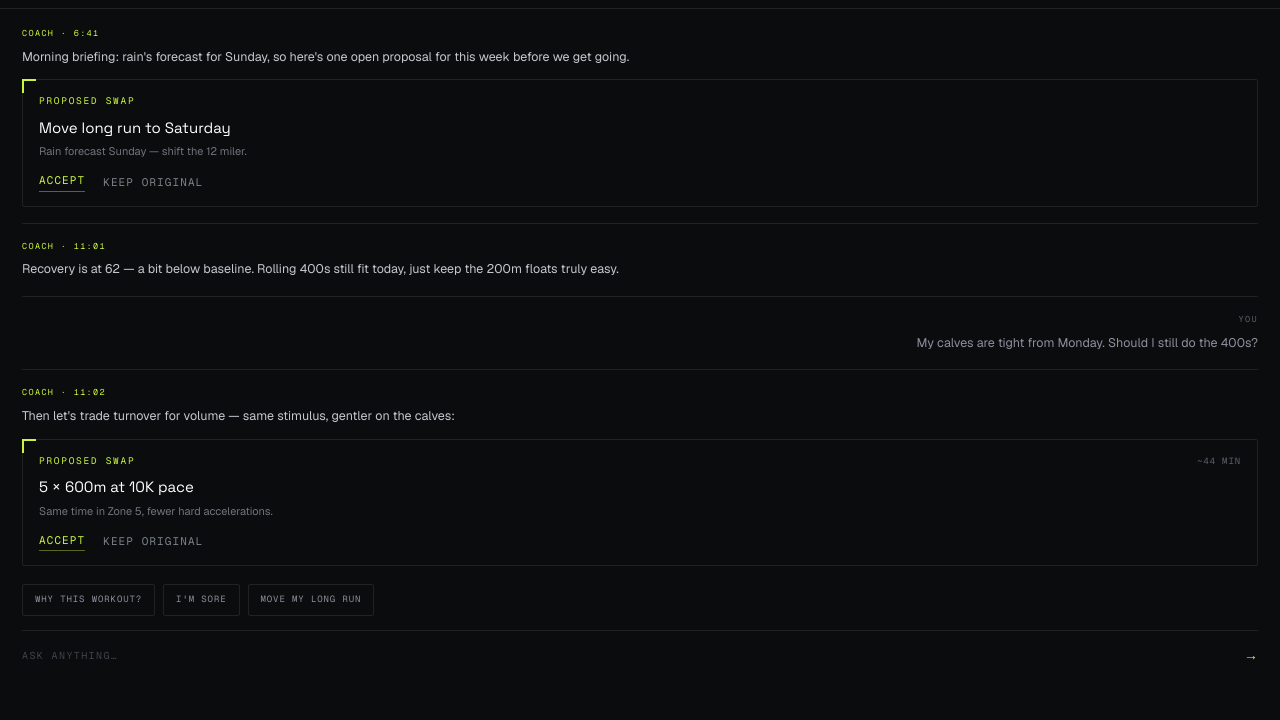
I4: a rejected send shows COULDN'T SAVE — TRY AGAIN with no unhandled rejection; retry success clears it
This screenshot has width=1280, height=720.
(page scrolled)
Type "did this save?" into the field with placeholder "ASK ANYTHING…".
click(627, 655); type("did this save?")  # box [22, 648, 1232, 663]
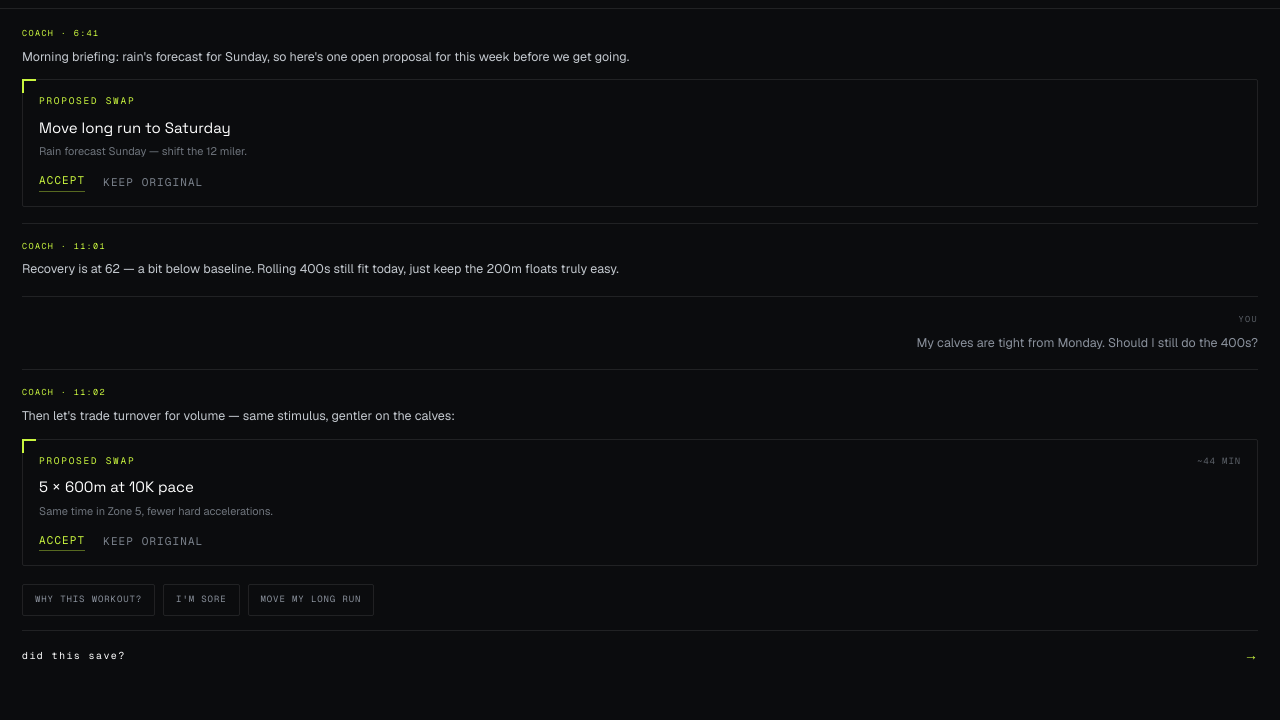
Click the button named "Send".
click(1251, 655)  # box [1244, 645, 1258, 666]
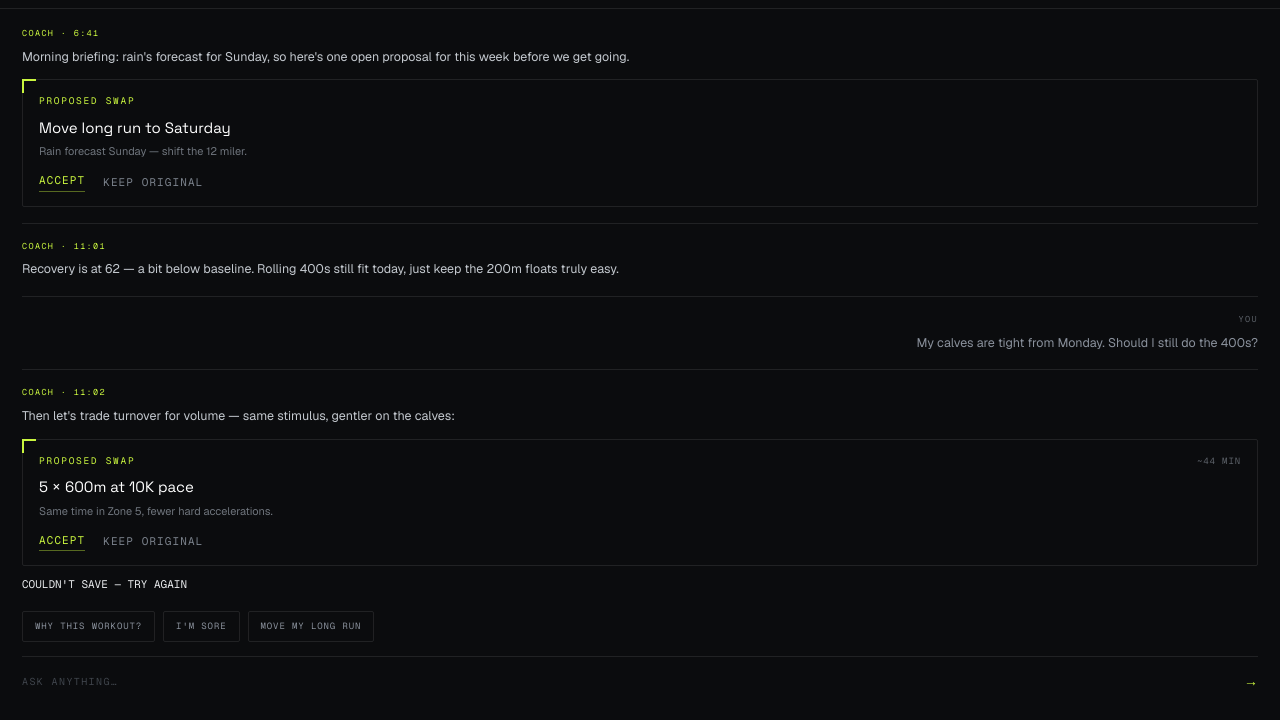
Expected: the text "COULDN'T SAVE — TRY AGAIN" is shown, [22, 577, 187, 591]
Type "did this save?" into the field with placeholder "ASK ANYTHING…".
click(627, 682); type("did this save?")  # box [22, 674, 1232, 689]
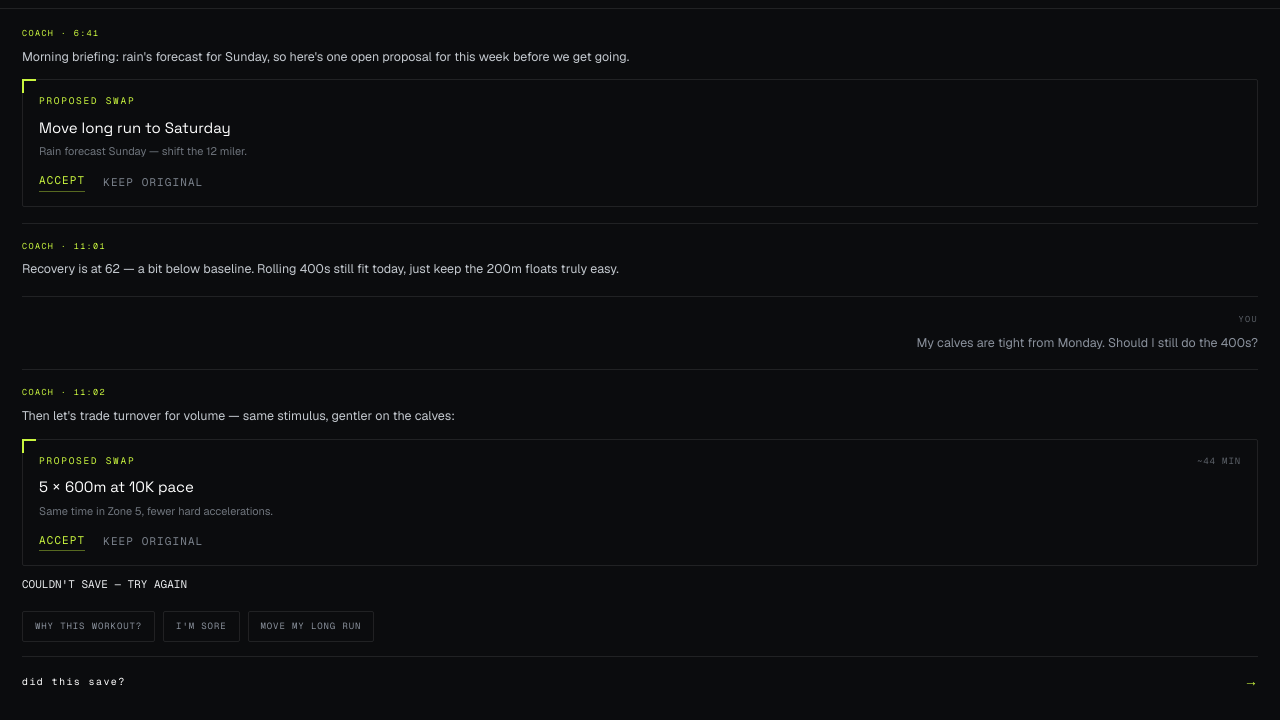
Click the button named "Send".
click(1251, 682)  # box [1244, 671, 1258, 692]
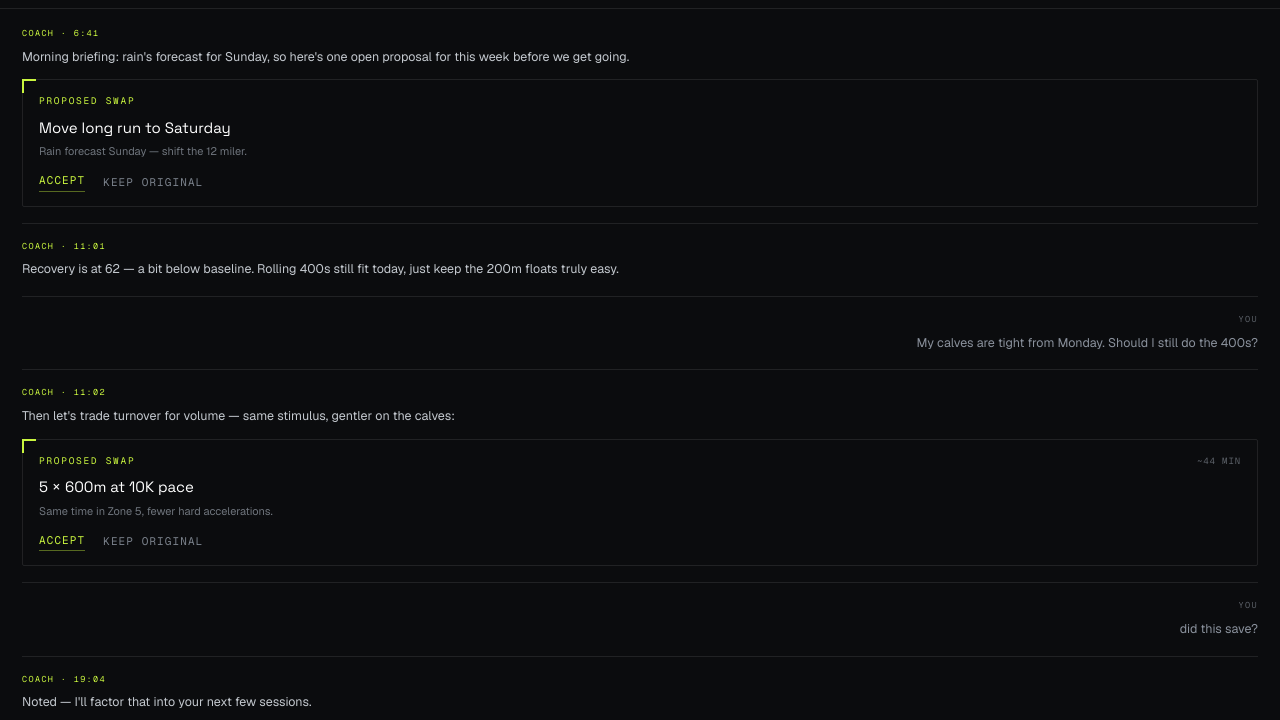
Expected: the text "did this save?" is shown, [1180, 620, 1258, 637]
Expected: the text "COULDN'T SAVE — TRY AGAIN" is gone
